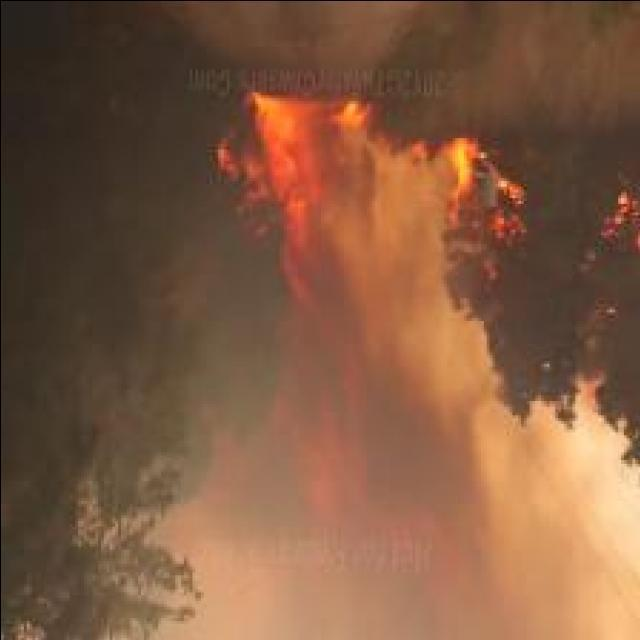Fire: (213, 90, 373, 510), (437, 134, 480, 226)
